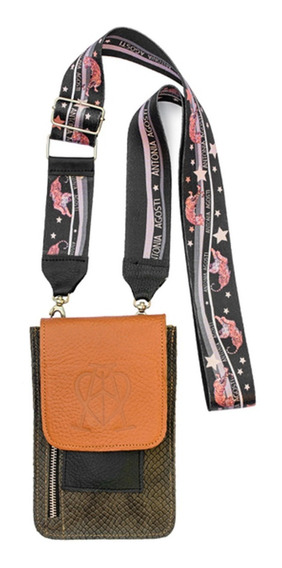cartera: (26, 301, 181, 539)
